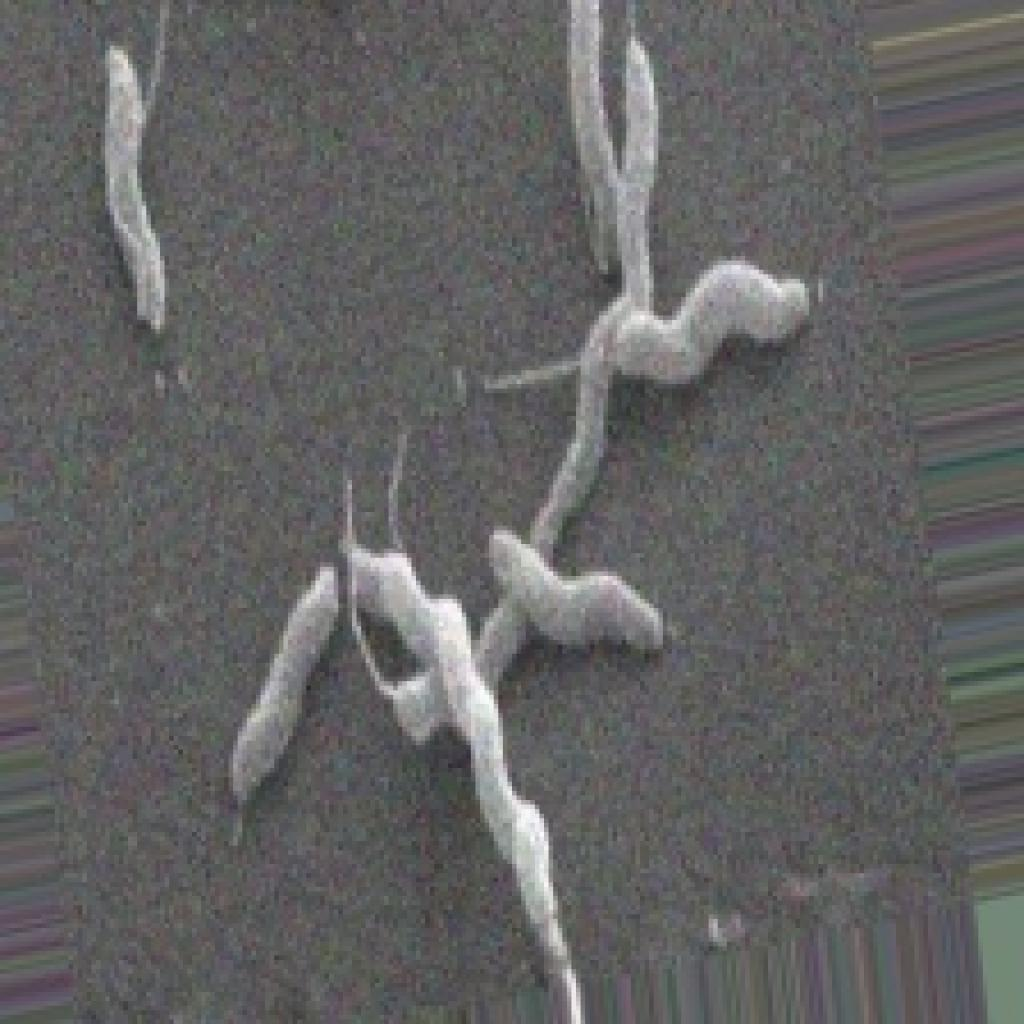Sprialbacteria: (40, 40, 888, 1024)
